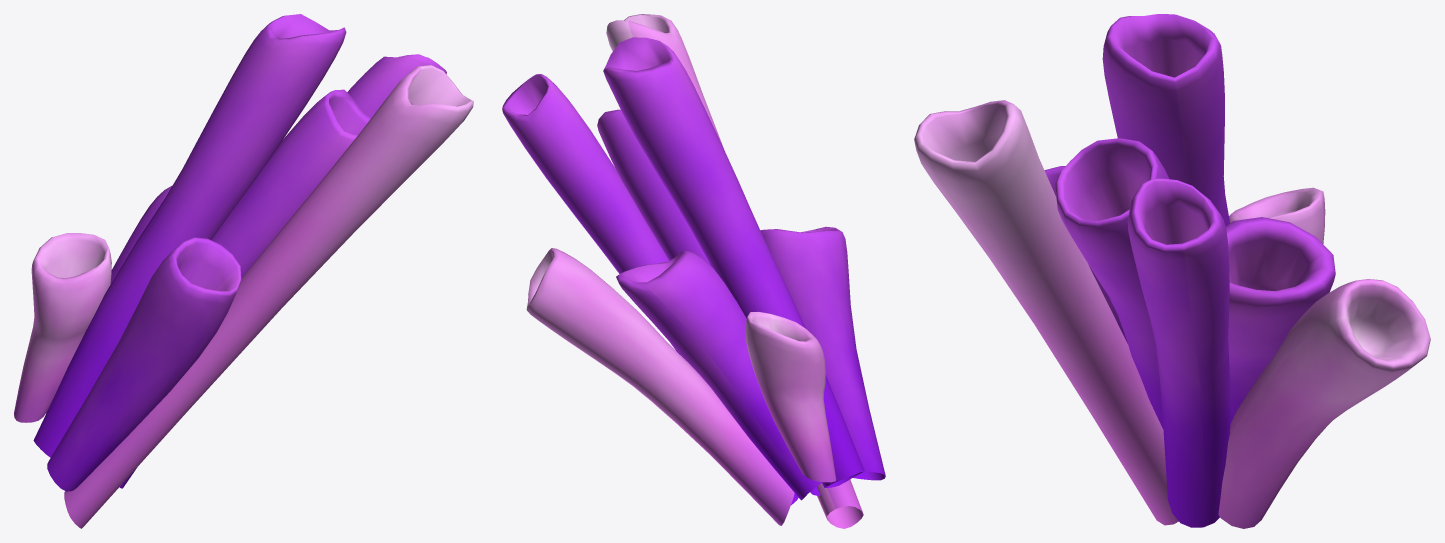
The model's file is plant_65.fbx.
The picture shows the model from 3 angles, left to right: view 1: azimuth 30°, elevation 25°; view 2: azimuth 150°, elevation 25°; view 3: azimuth 270°, elevation 25°; orthographic projection. The views are drawn at different scales.
Parts seen in each view (by area): view 1: shanhu_04_coral_h0016; view 2: shanhu_04_coral_h0016; view 3: shanhu_04_coral_h0016.
Part boxes in pixels (left/top/right/bottom): shanhu_04_coral_h0016: left=14, top=14, right=473, bottom=528; shanhu_04_coral_h0016: left=502, top=14, right=885, bottom=528; shanhu_04_coral_h0016: left=914, top=14, right=1430, bottom=528.
Bounding box in the file's own units: 1.87 × 2.04 × 1.47.
